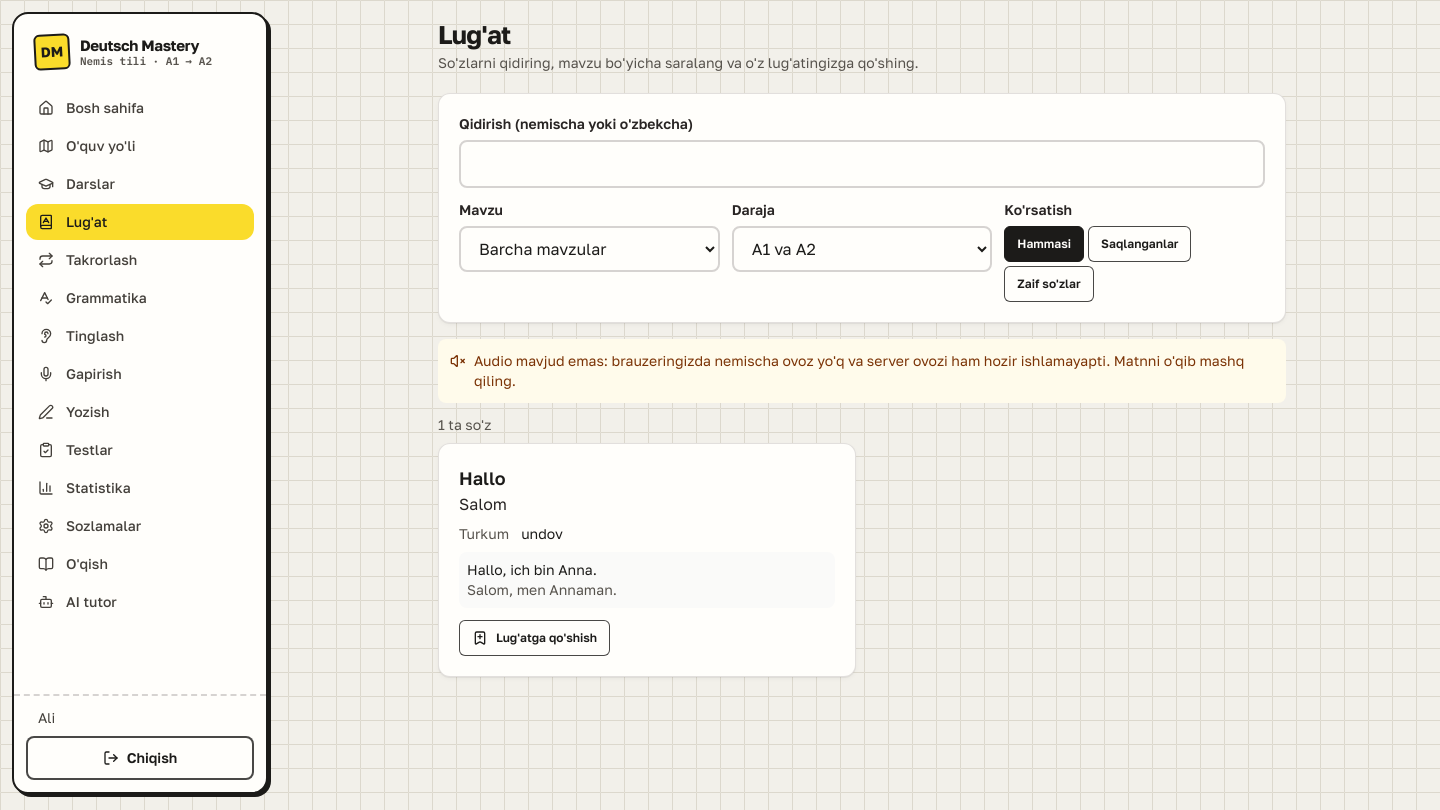
Test: vocabulary page › passes filters to the API and shows an empty state
The image size is (1440, 810).
expect the heading "Hallo" is shown: met, box [459,464,507,492]
Click the button "Saqlanganlar" at (1140, 244), box [1088,226,1192,262]
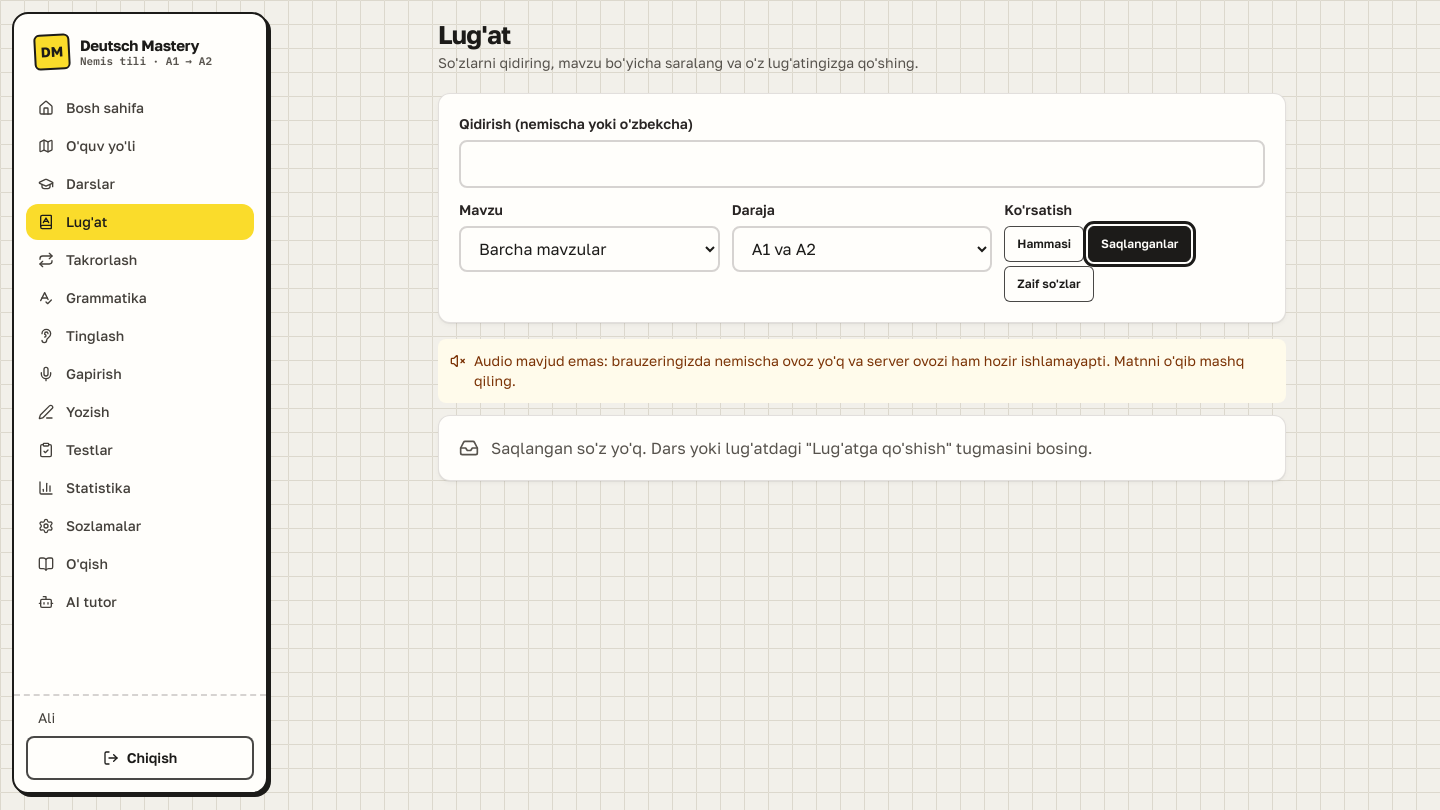
expect the text "Saqlangan so'z yo'q" is shown: met, box [491,438,1093,458]
